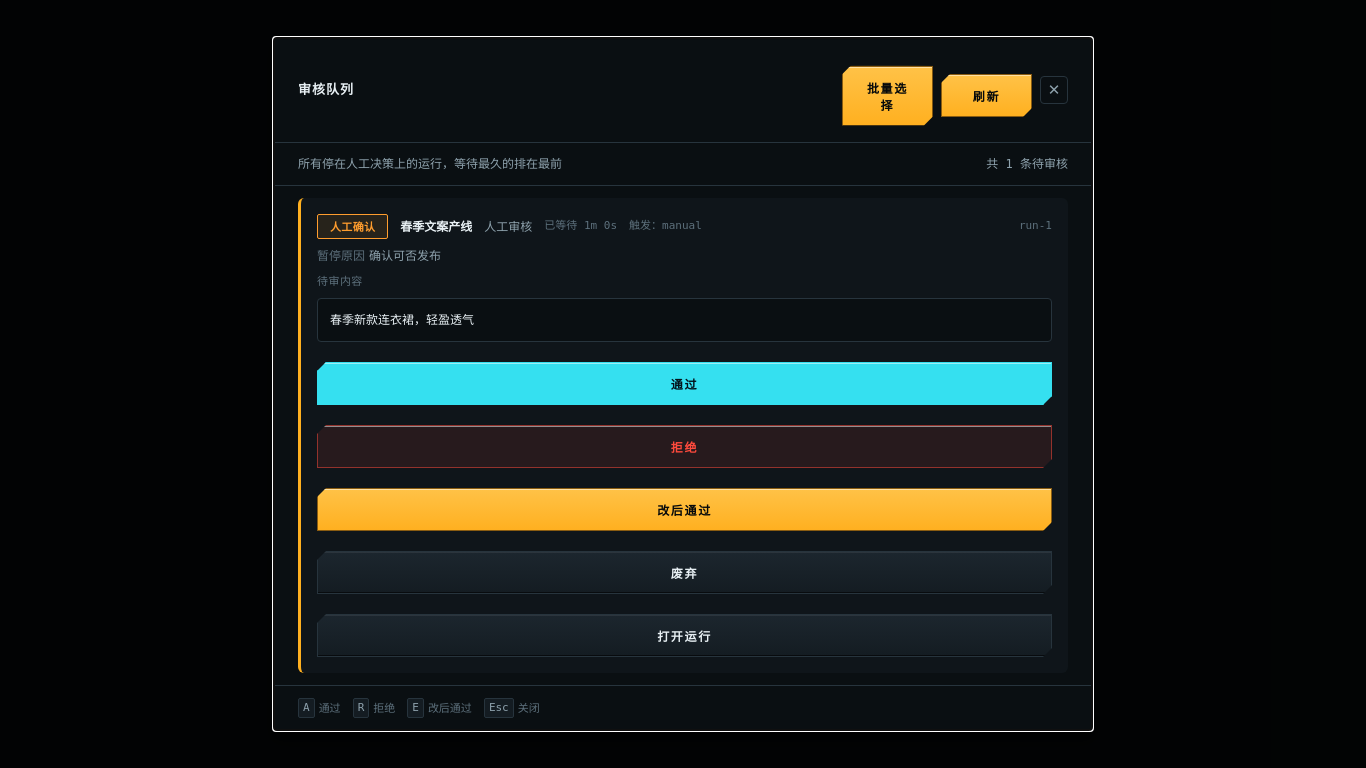
ReviewQueue › 单条决策 › 接口整体失败时显示错误而不抛异常
Expected: the heading "审核队列" is shown, [298,80,354,99]
Click the button "通过".
click(684, 384)  # box [317,362,1052,405]
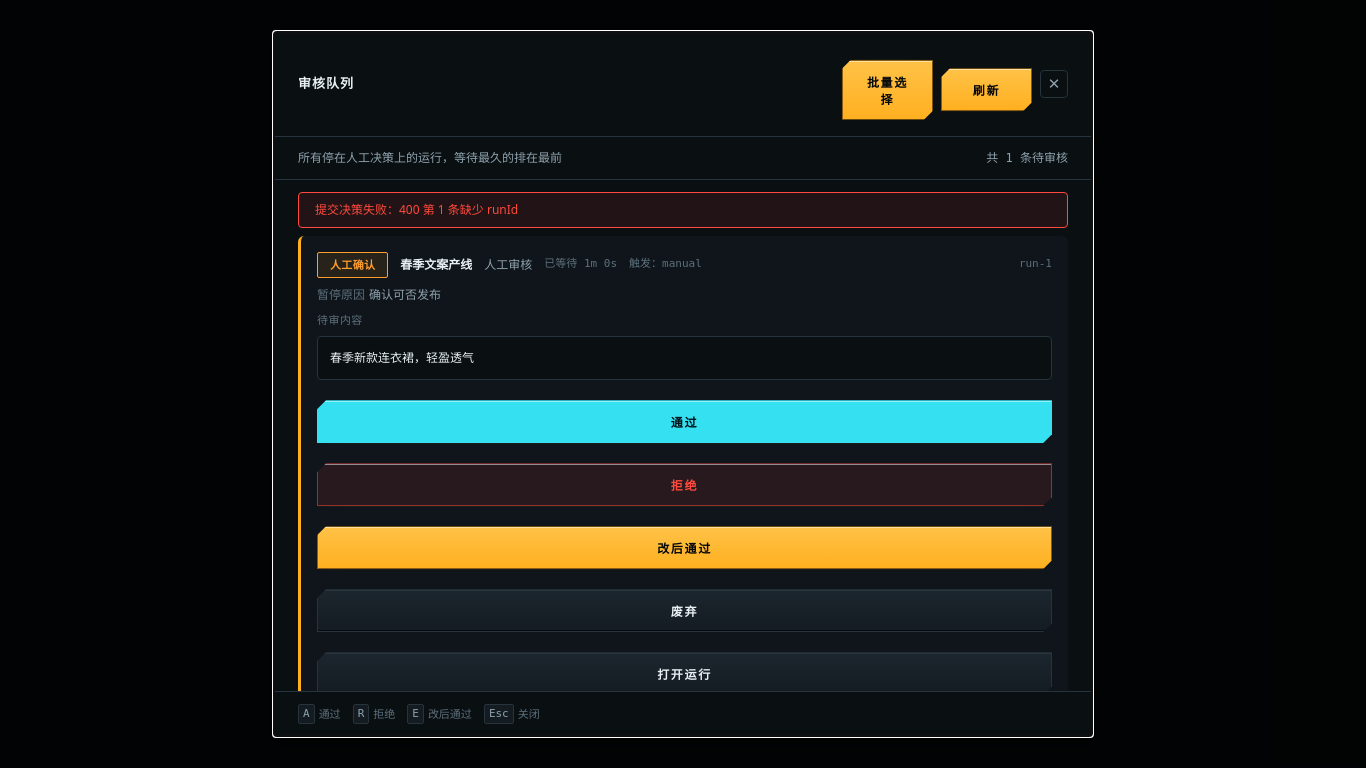
Now the text "提交决策失败：400 第 1 条缺少 runId" is shown, box [298,192,1068,228]
